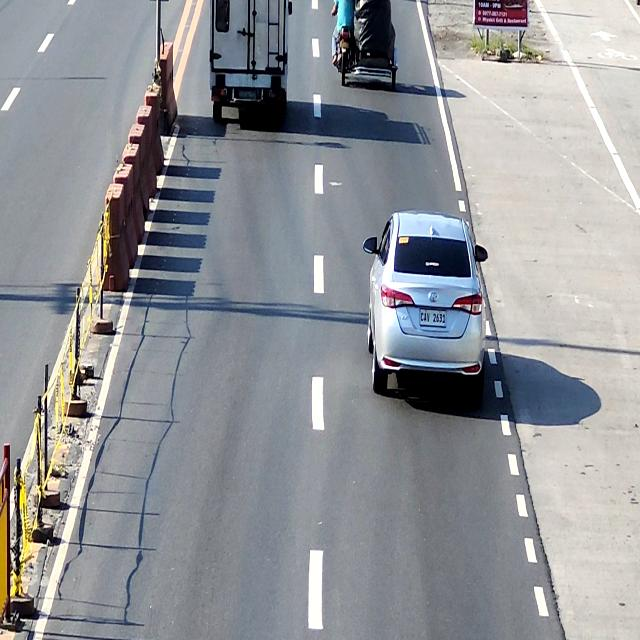Car: (363, 210, 489, 404)
License-Plate: (419, 308, 446, 328), (339, 40, 348, 48)
Tricycle: (337, 0, 398, 89)
Truck: (209, 0, 293, 129)
